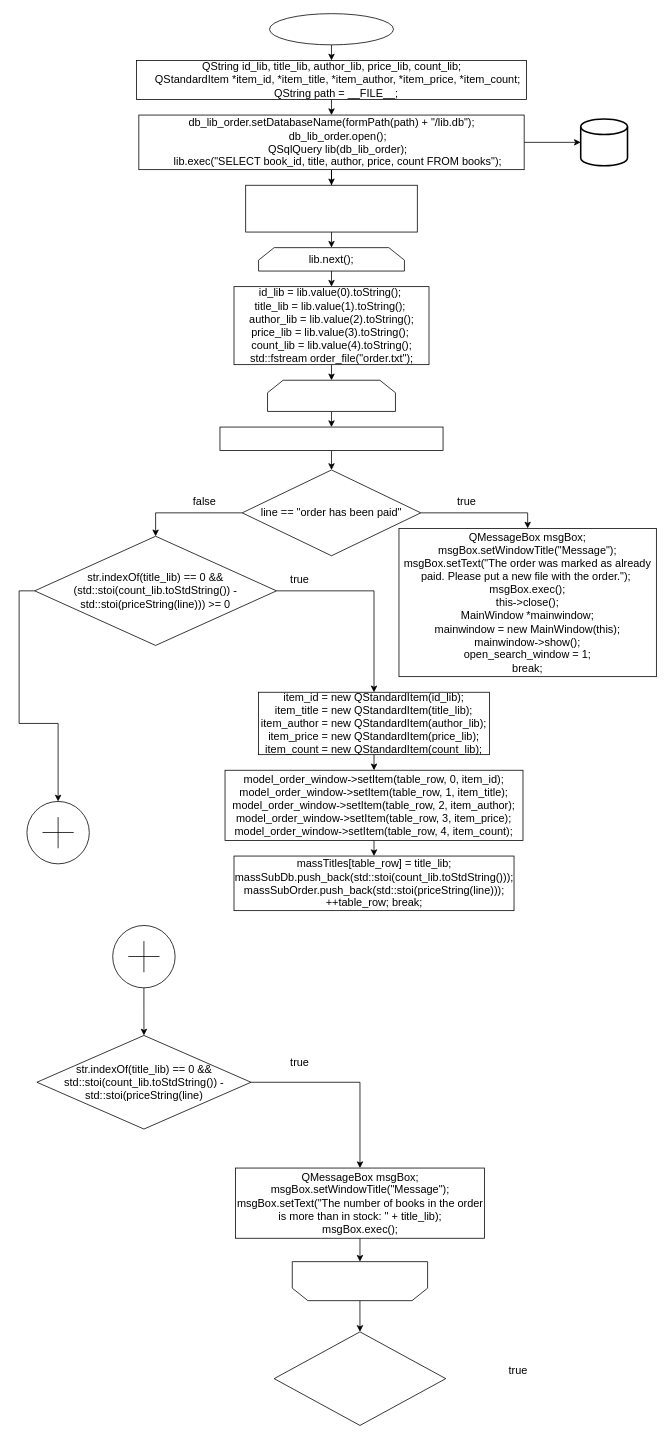
This 670x1439 diagram has some shape labels left out. Each missing label, with the centre of its shape:
getline(order_file, line): [331,395]
lib.db: [604,142]
open_search_window == 1: [359,1378]
QString str = QString::fromStdString(line);: [331,438]
std::string line; int open_search_window = 0;: [331,208]
Начало: [331,29]
